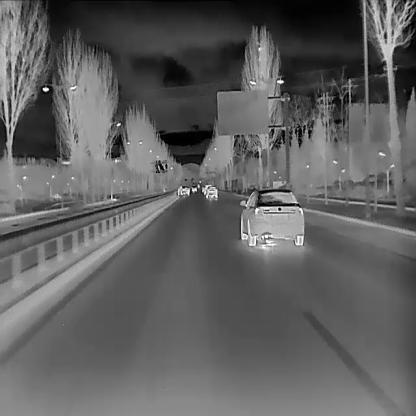car: (238, 185, 304, 246), (205, 185, 218, 199), (177, 184, 190, 195), (204, 184, 212, 194), (191, 184, 196, 191), (201, 184, 204, 192), (196, 183, 199, 187), (198, 180, 200, 183)
